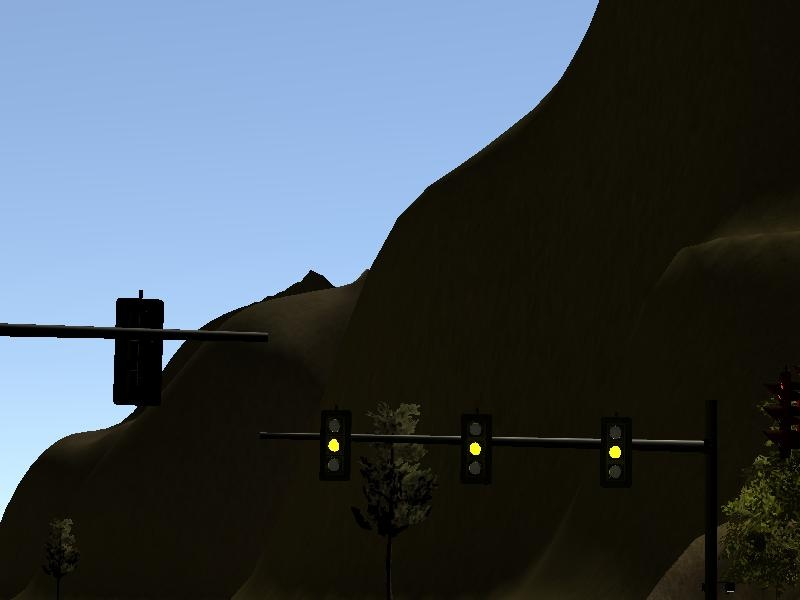yellow: (600, 418, 632, 490), (461, 414, 492, 485), (320, 411, 350, 483)
